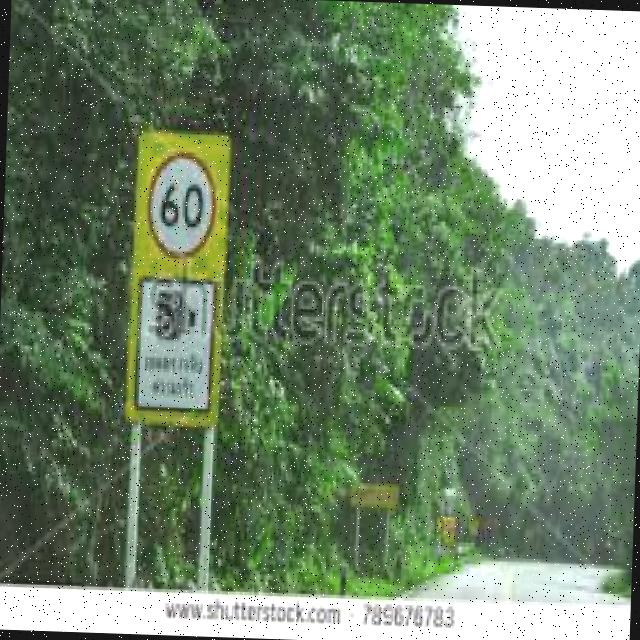Ograniczenie predkosci do 60: (146, 150, 219, 266)
